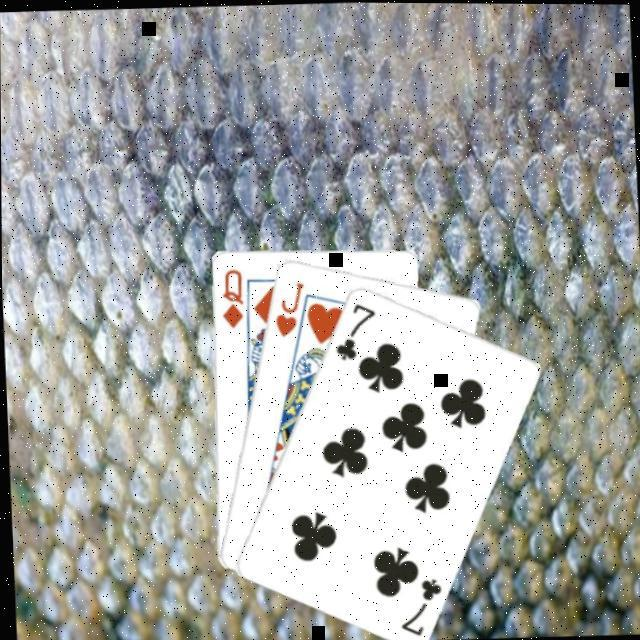7C: (395, 574, 445, 640), (330, 299, 380, 363)
JH: (270, 279, 308, 340)
QD: (217, 264, 247, 331)
